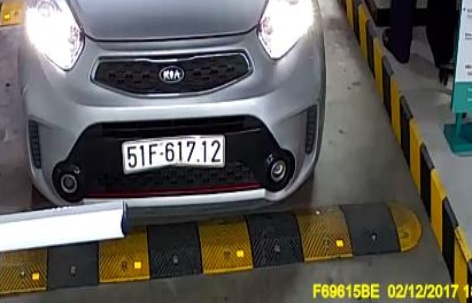plate: (116, 130, 228, 178)
